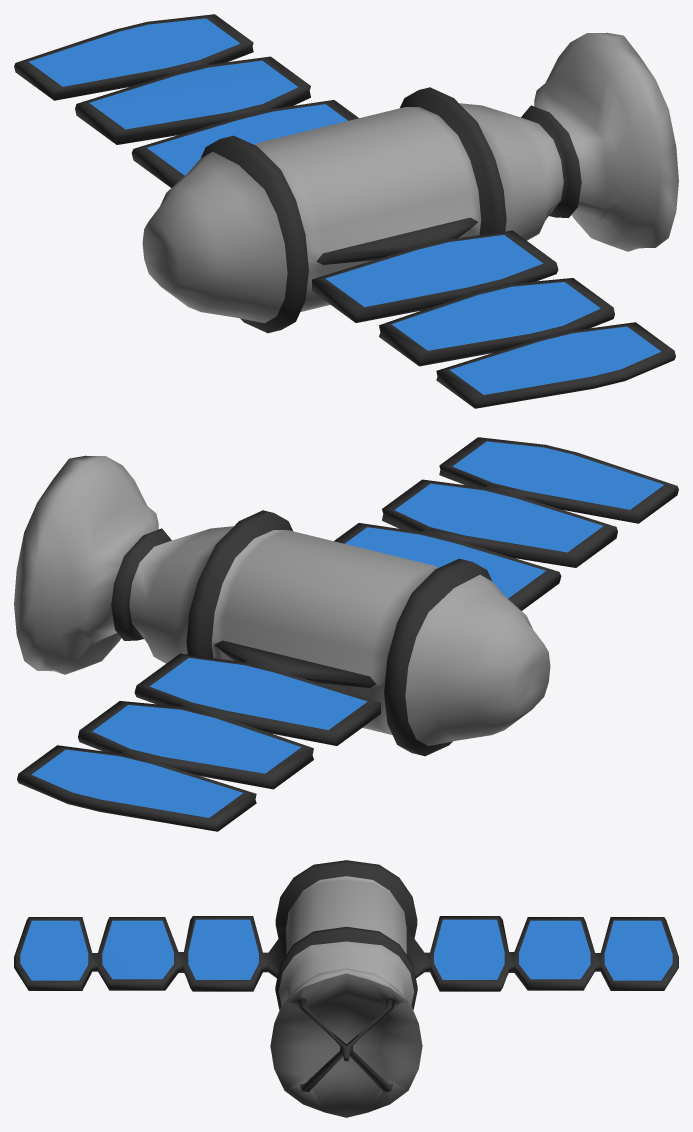
File: Satellite.fbx
3 renders of one model, top to bottom at view 1: azimuth 30°, elevation 25°; view 2: azimuth 150°, elevation 25°; view 3: azimuth 270°, elevation 25°, orthographic. The views are drawn at different scales.
Visible parts, largest first — view 1: Satellite; view 2: Satellite; view 3: Satellite.
Part boxes in pixels (x1=…): Satellite: x1=14, y1=14, x2=678, y2=408; Satellite: x1=14, y1=437, x2=678, y2=831; Satellite: x1=14, y1=860, x2=678, y2=1117.
Bounding box in the file's own units: 6.17 × 2.5 × 10.33.
